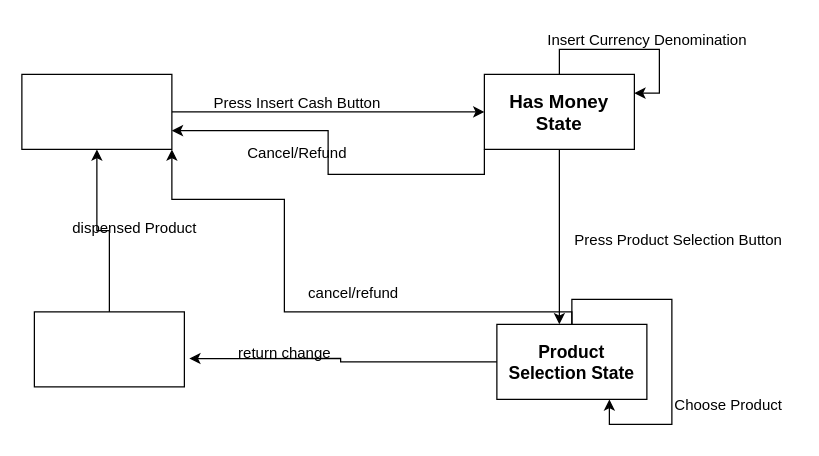
The diagram is 819 pixels wide and 456 high, and some of its shapes have lost their labels. The shapes that lost their labels are listed below. From the top down, each one's centre as x and y in pixels, then its label:
At (x=96, y=111): "Idle State".
At (x=108, y=349): "Dispense Product".
